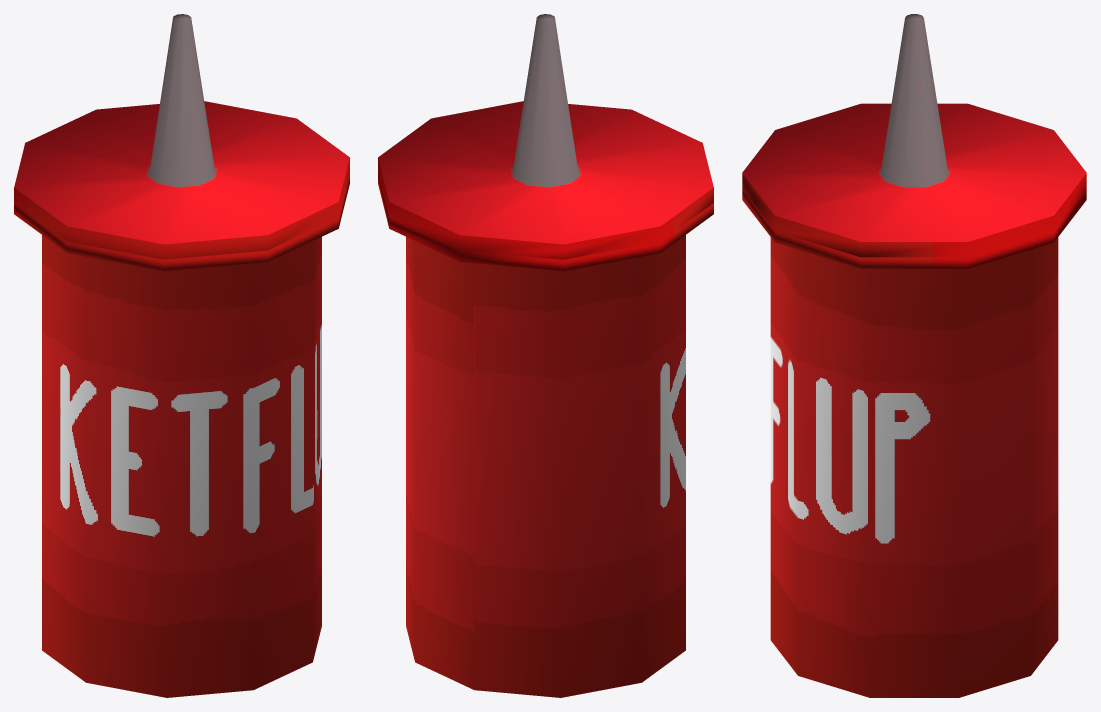
Rendered from Ketflup.fbx.
3 renders of one model, left to right at view 1: azimuth 30°, elevation 25°; view 2: azimuth 150°, elevation 25°; view 3: azimuth 270°, elevation 25°, orthographic.
Parts seen in each view (by area): view 1: KetFlupBottle; view 2: KetFlupBottle; view 3: KetFlupBottle.
Boxes of the visible parts, x1,y1,x2,y2 form: KetFlupBottle: (14,14,349,697); KetFlupBottle: (378,14,713,697); KetFlupBottle: (742,14,1086,697).
Size of the model in its own units: 13.84 by 28.99 by 14.55.
1 material, 1 textured.
